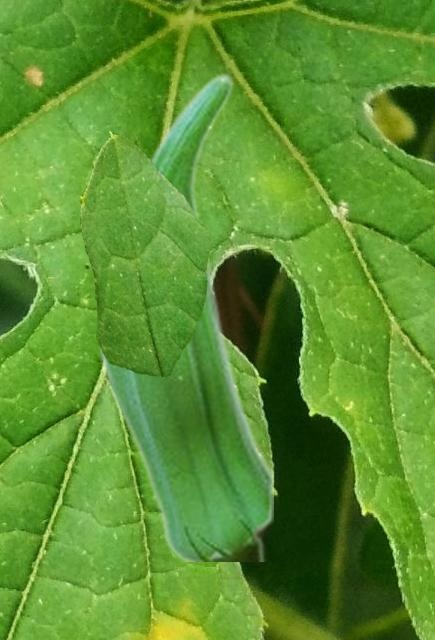okra: (96, 70, 272, 560)
